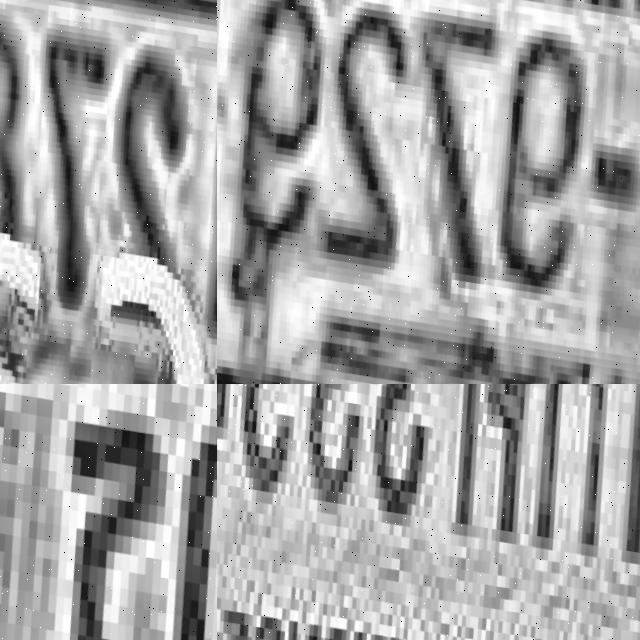license-plate: (217, 0, 640, 384), (217, 384, 640, 640), (0, 0, 217, 384), (0, 384, 217, 640)
